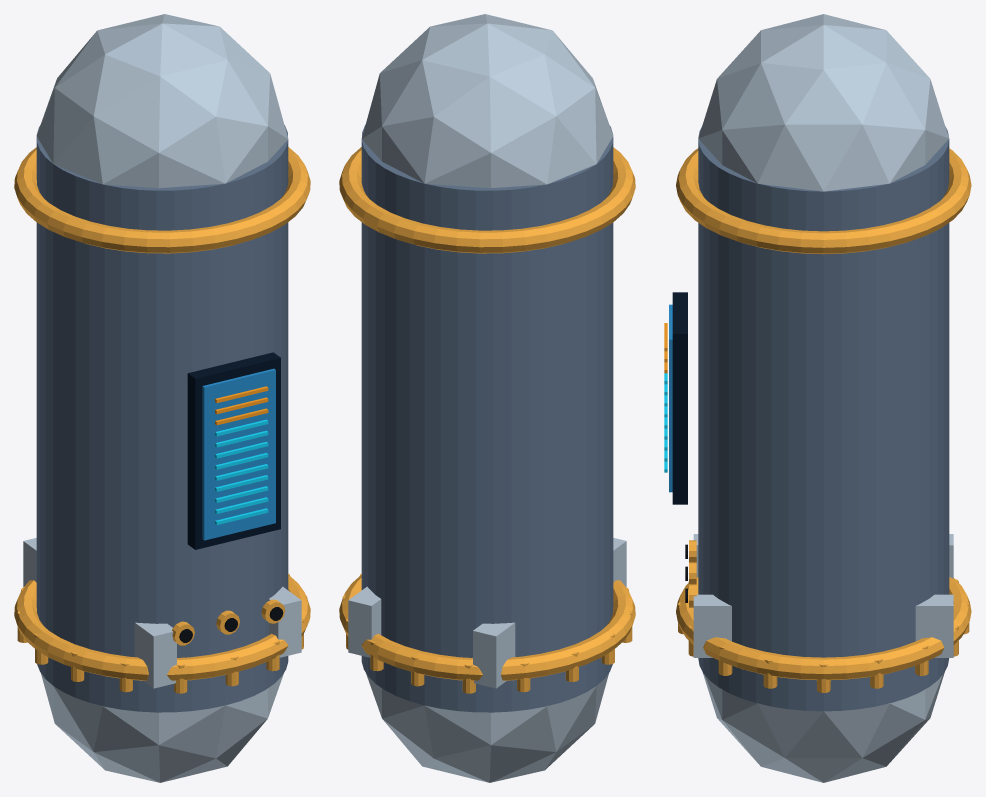
Rendered from 48_L90_XenonStorageTankA.fbx.
The picture shows the model from 3 angles, left to right: view 1: azimuth 30°, elevation 25°; view 2: azimuth 150°, elevation 25°; view 3: azimuth 270°, elevation 25°; orthographic projection.
Visible parts, largest first — view 1: L90_XenonStorageTankA, L90_XenonStorageTankA_Part_0005, L90_XenonStorageTankA_Part_0006; view 2: L90_XenonStorageTankA; view 3: L90_XenonStorageTankA.
Part boxes in pixels (x1,y1,x2,y2): L90_XenonStorageTankA: (14,14,310,782); L90_XenonStorageTankA_Part_0005: (215,419,268,524); L90_XenonStorageTankA_Part_0006: (215,386,268,425); L90_XenonStorageTankA: (339,14,635,782); L90_XenonStorageTankA: (669,14,971,782).
Bounding box in the file's own units: 165 × 460 × 171.
